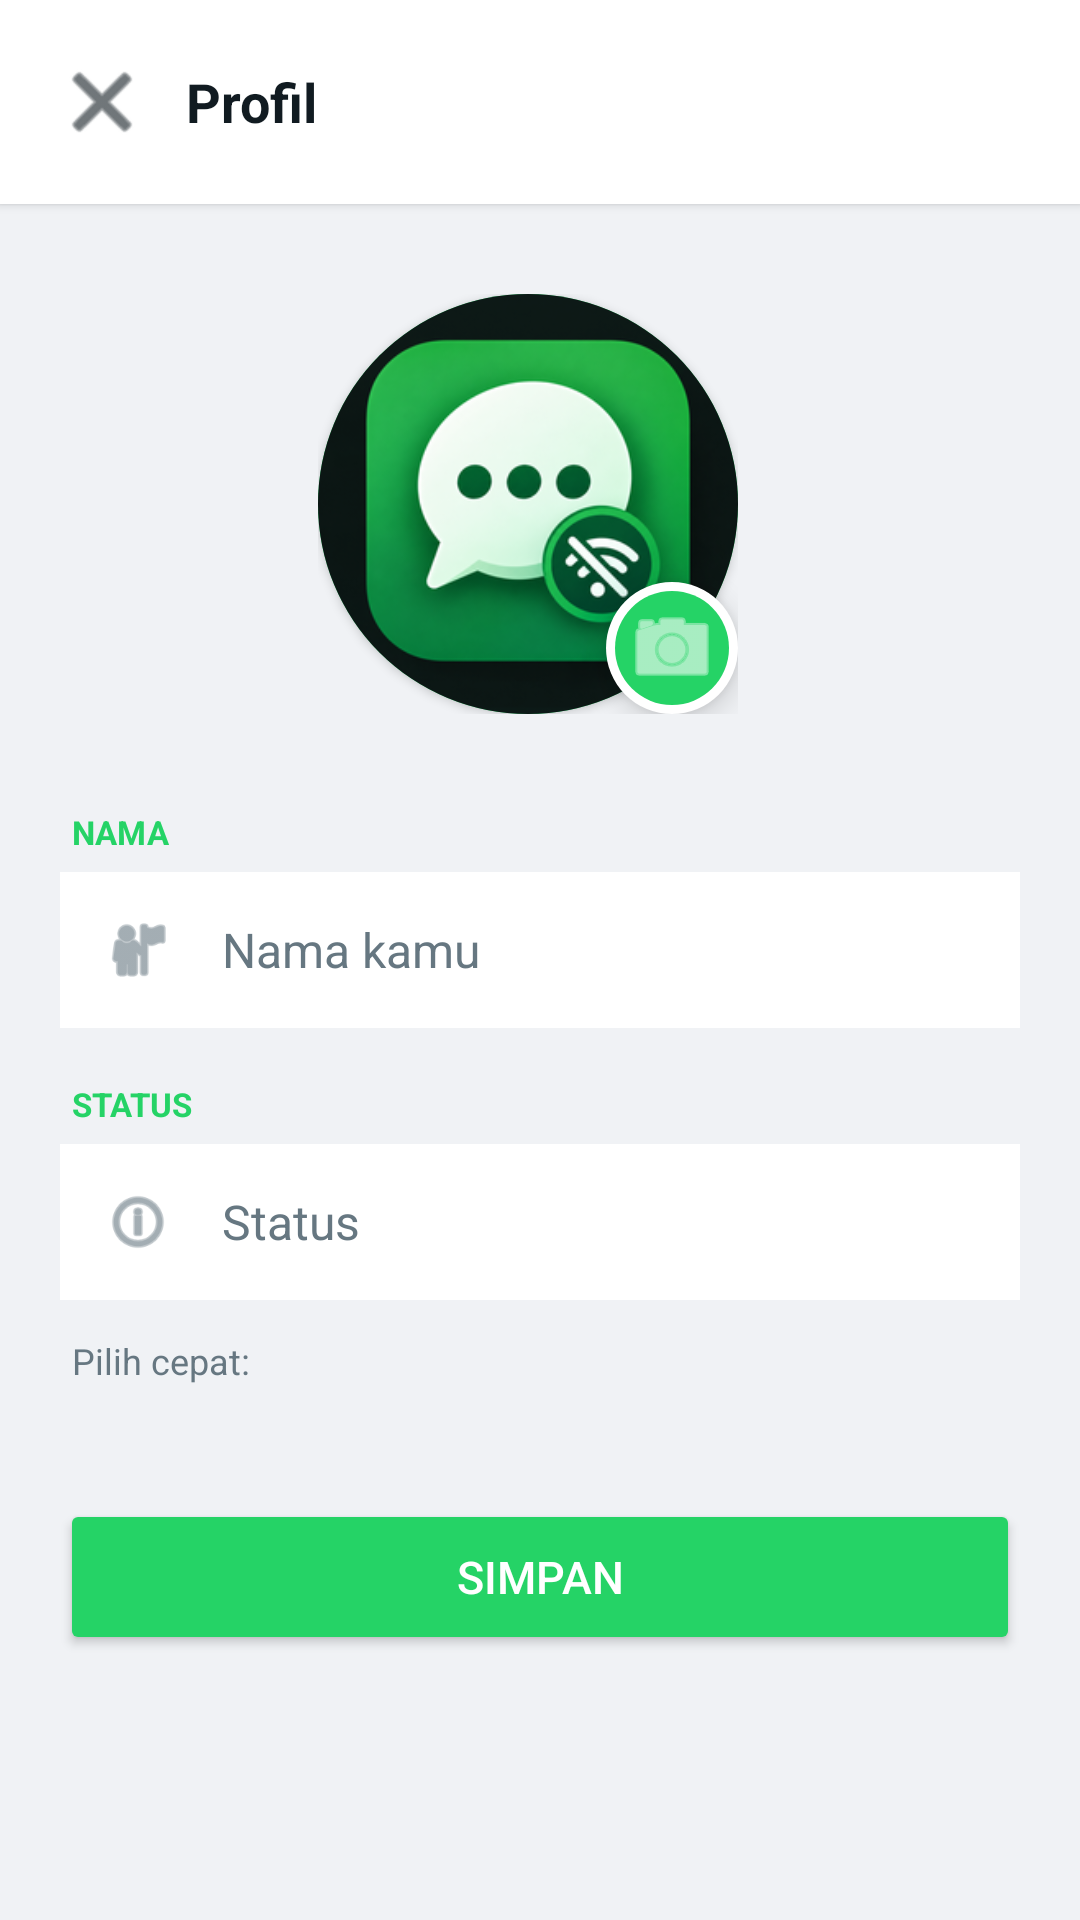

Screen size 1080 x 1920. Icon name, then its center in pixels as [x,y]:
Ganti foto: [672,648]
info details: [138,1222]
Kembali: [102,102]
myplaces: [139,950]
